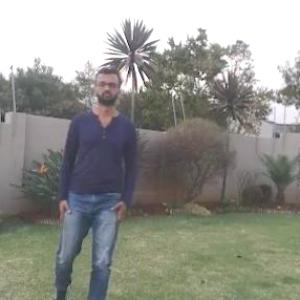follow: (54, 53, 140, 299)
